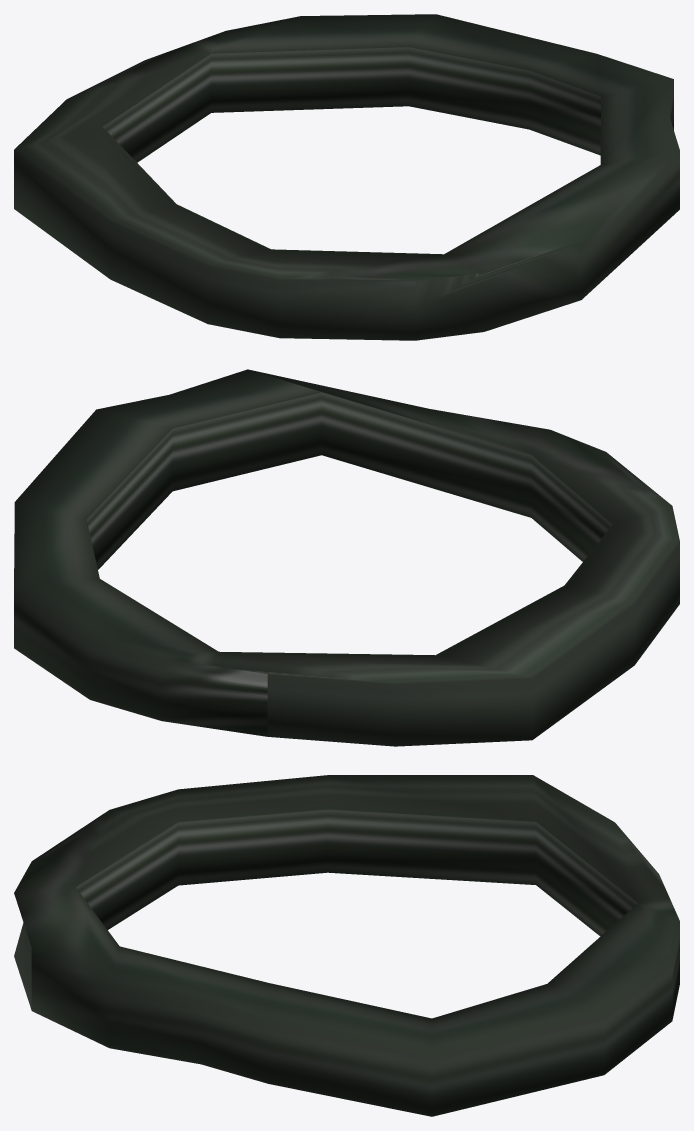
File: Chain.fbx
3 views of the same model, one above another, from view 1: azimuth 30°, elevation 25°; view 2: azimuth 150°, elevation 25°; view 3: azimuth 270°, elevation 25° (orthographic). The views are drawn at different scales.
Parts seen in each view (by area): view 1: Cube; view 2: Cube; view 3: Cube.
Boxes of the visible parts, x1,y1,x2,y2 form: Cube: (14,14,679,340); Cube: (14,369,679,746); Cube: (14,775,679,1116).
Bounding box in the file's own units: 0.2351 × 0.0378 × 0.2375.
